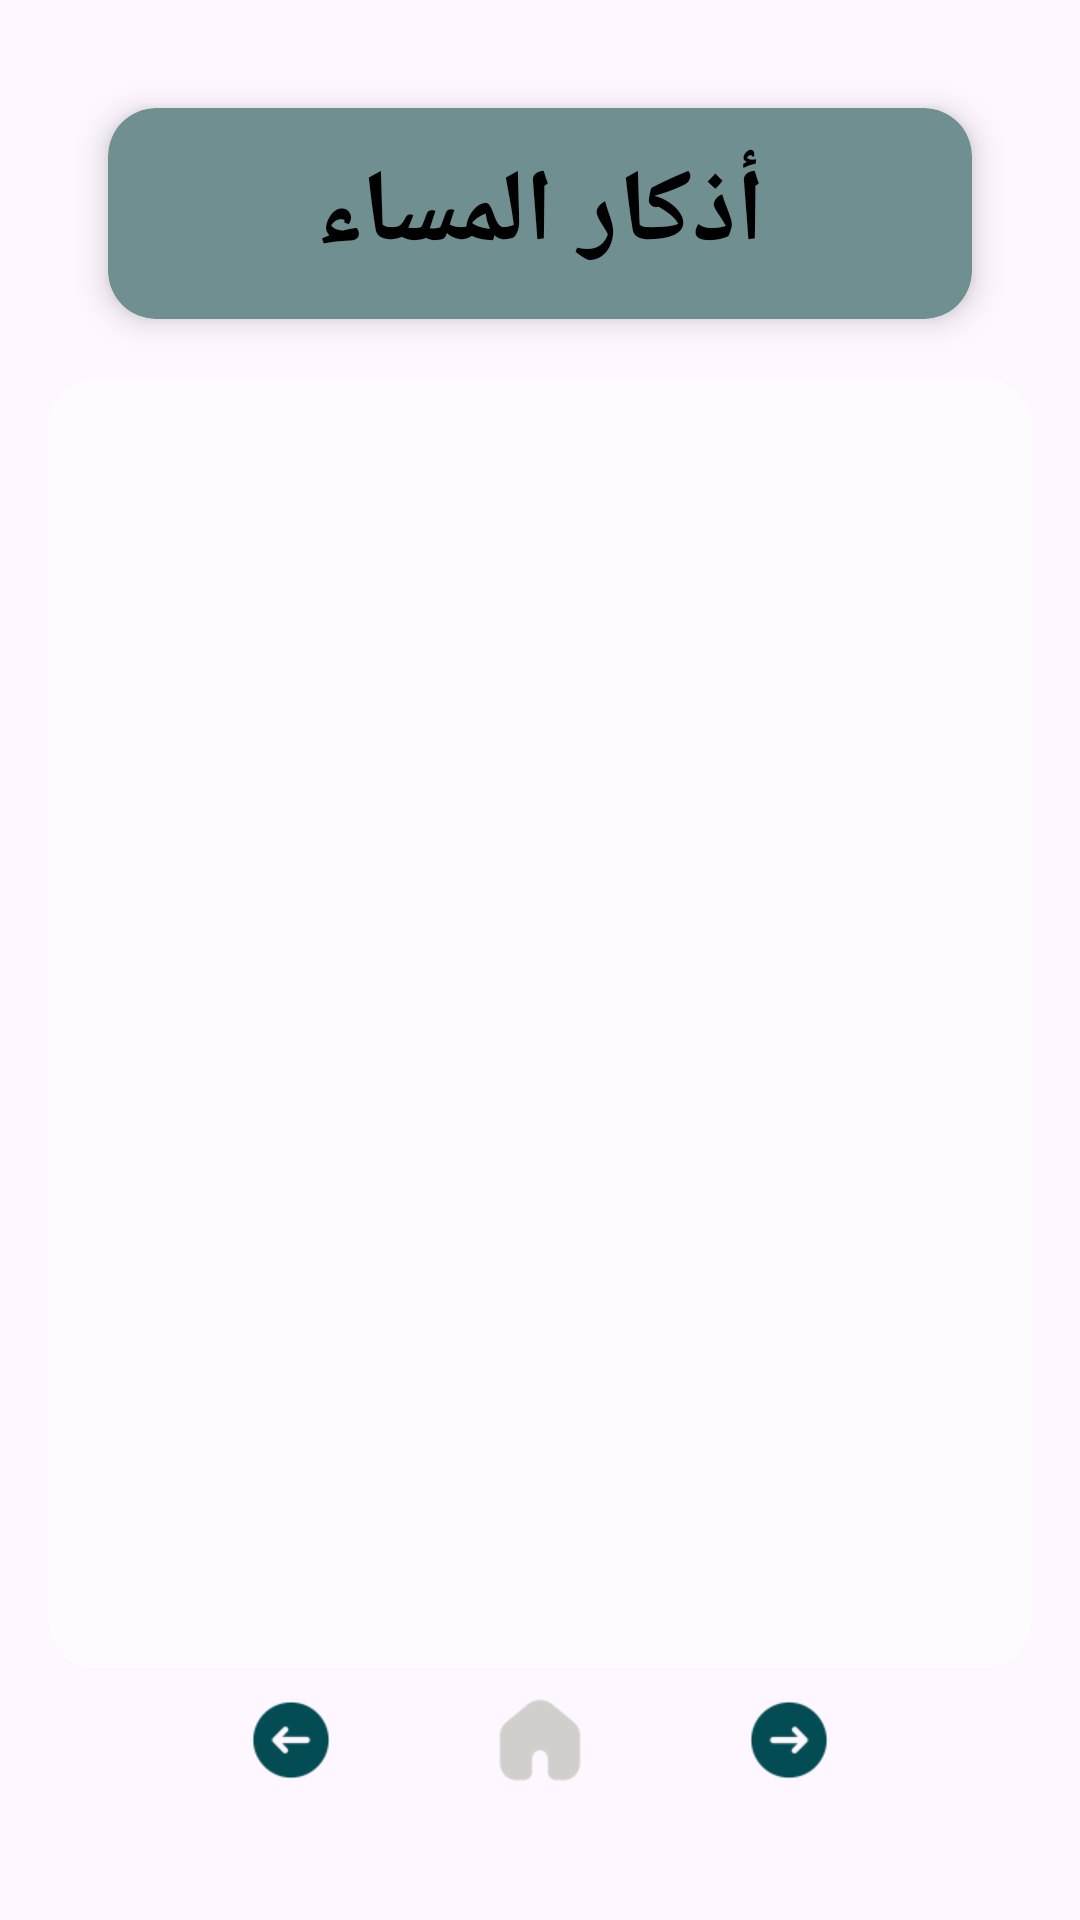

Icons on this 1080px x 1920px Android screen, each with the point to tap as [x,y]:
Home: [540,1740]
Next: [789,1740]
Previous: [291,1740]
